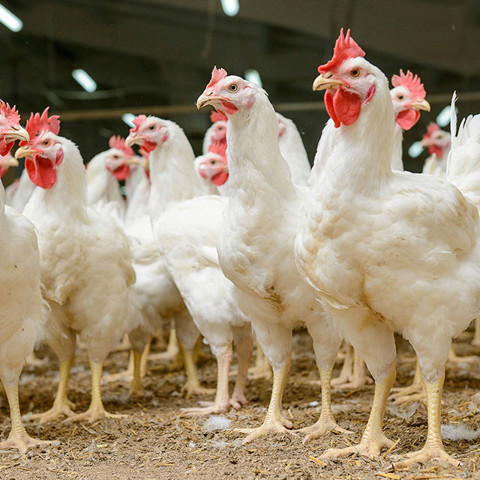chicken: (267, 35, 480, 471)
